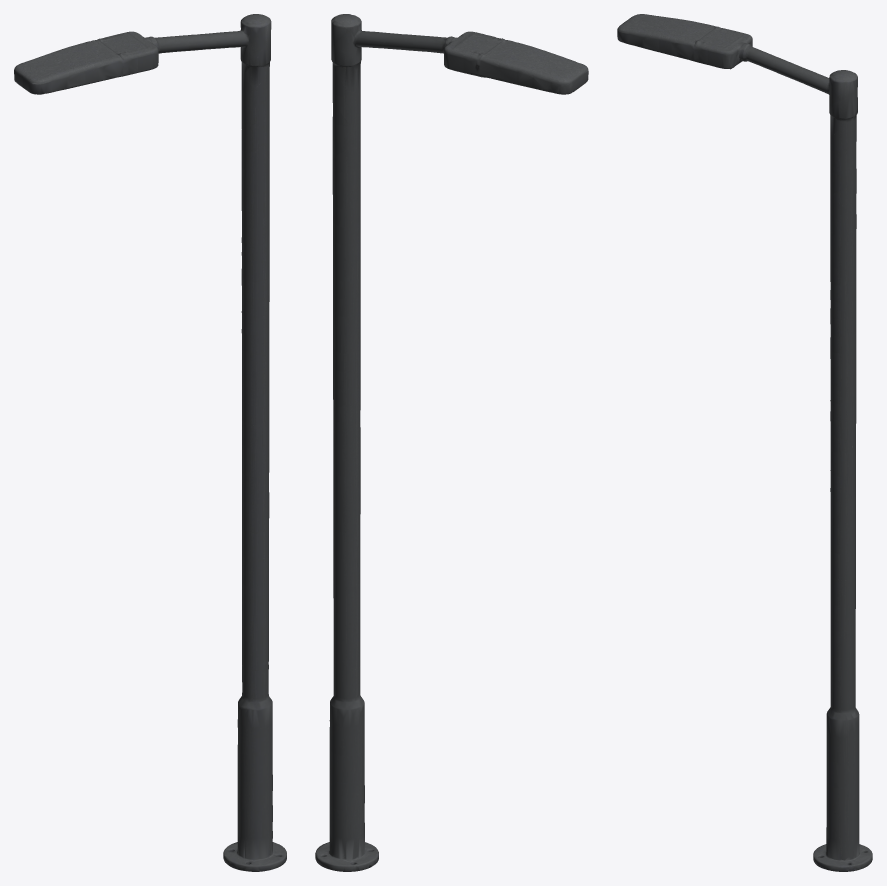
File: lamppost.glb
The picture shows the model from 3 angles, left to right: view 1: azimuth 30°, elevation 25°; view 2: azimuth 150°, elevation 25°; view 3: azimuth 330°, elevation 25°; orthographic projection. The views are drawn at different scales.
Visible parts, largest first — view 1: mesh_node; view 2: mesh_node; view 3: mesh_node.
Boxes of the visible parts, box(x1,y1,x2,y2) form: mesh_node: box(14, 14, 286, 871); mesh_node: box(315, 14, 588, 871); mesh_node: box(617, 14, 872, 871).
Bounding box in the file's own units: 0.6122 × 1.9 × 0.1288.
Materials: 1 (1 with a texture image).
